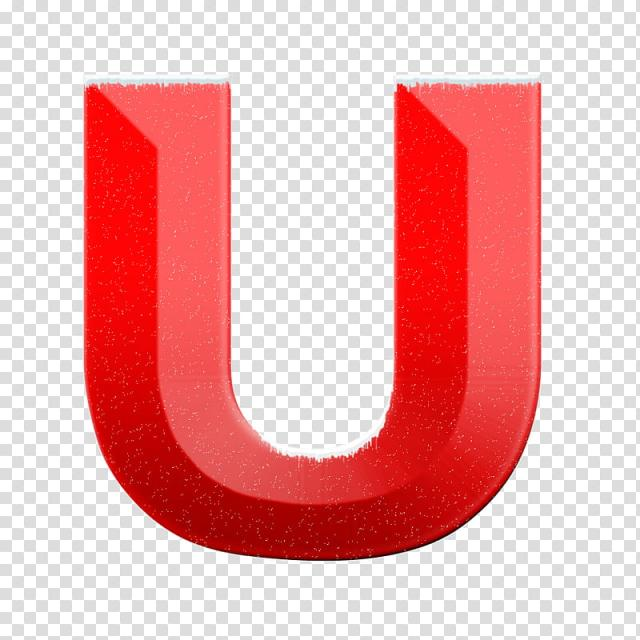U: (37, 47, 550, 581)
